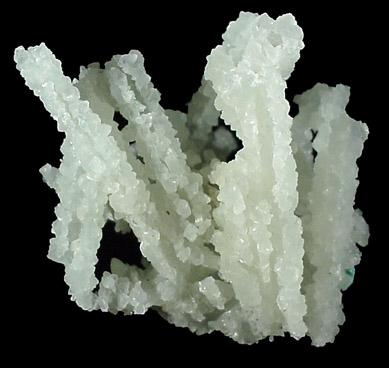prehnite: (15, 13, 369, 346)
